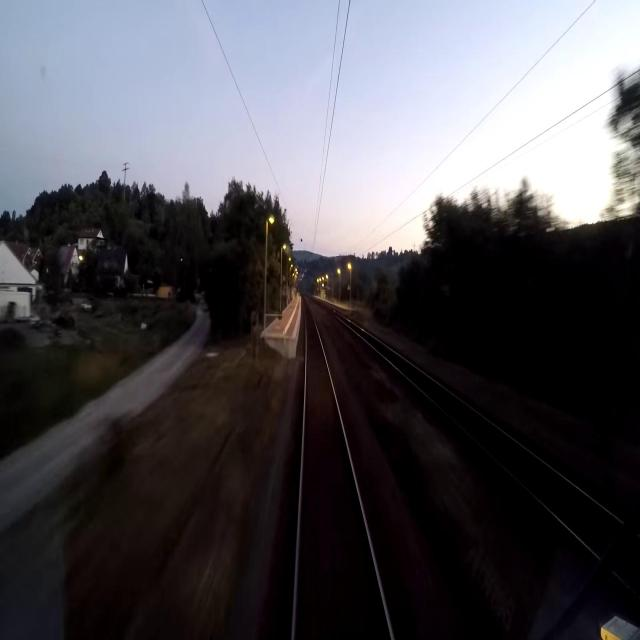rail-track: (345, 321, 616, 551), (296, 303, 390, 639)
